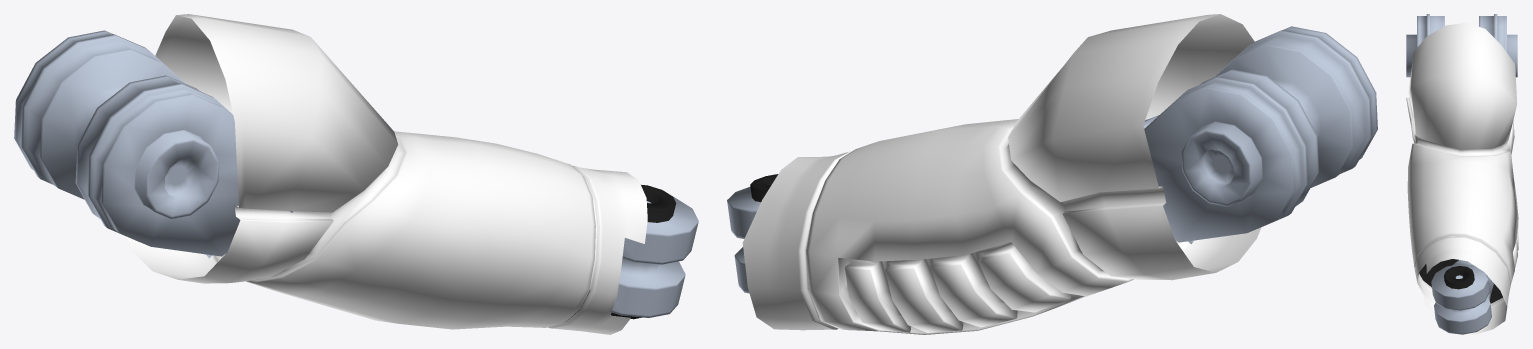
Rendered from leftBicep.dae.
3 views of the same model, side by side, from view 1: azimuth 30°, elevation 25°; view 2: azimuth 150°, elevation 25°; view 3: azimuth 270°, elevation 25° (orthographic). The views are drawn at different scales.
Parts seen in each view (by area): view 1: Mesh_022, Circle_161, Circle_235; view 2: Mesh_022, Circle_161, Circle_235; view 3: Mesh_022, Circle_235, Circle_161.
Boxes of the visible parts, x1,y1,x2,y2 form: Mesh_022: [127, 14, 647, 334]; Circle_161: [14, 30, 293, 258]; Circle_235: [611, 185, 698, 319]; Mesh_022: [742, 14, 1261, 334]; Circle_161: [1108, 26, 1377, 243]; Circle_235: [727, 174, 778, 293]; Mesh_022: [1406, 22, 1518, 334]; Circle_235: [1431, 260, 1493, 334]; Circle_161: [1406, 14, 1517, 77].
Bounding box in the file's own units: 4.75 × 1.45 × 2.98.
